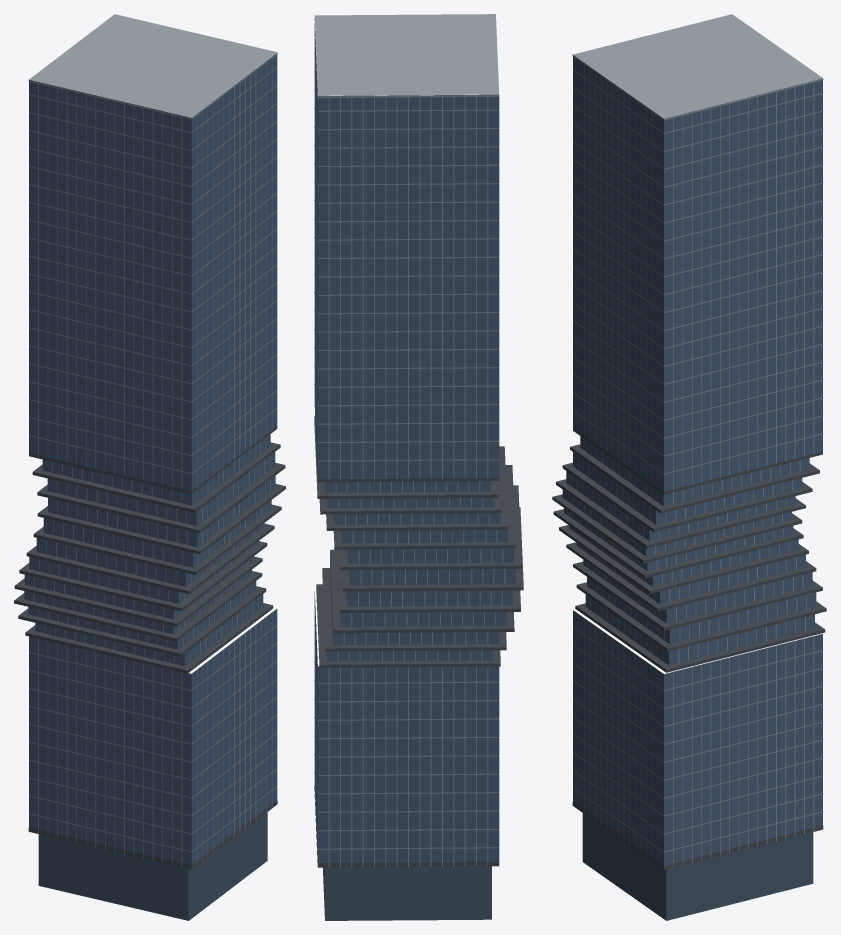
Rendered from frankfurt-omniturm.detail.glb.
3 views of the same model, side by side, from view 1: azimuth 30°, elevation 25°; view 2: azimuth 150°, elevation 25°; view 3: azimuth 270°, elevation 25° (orthographic). The views are drawn at different scales.
Parts seen in each view (by area): view 1: Omniturm; view 2: Omniturm; view 3: Omniturm.
Part boxes in pixels (box(x1,y1,x2,y2)): Omniturm: box(14, 14, 285, 920); Omniturm: box(314, 14, 523, 920); Omniturm: box(552, 14, 826, 920).
Size of the model in its own units: 57.85 by 190 by 58.5.
